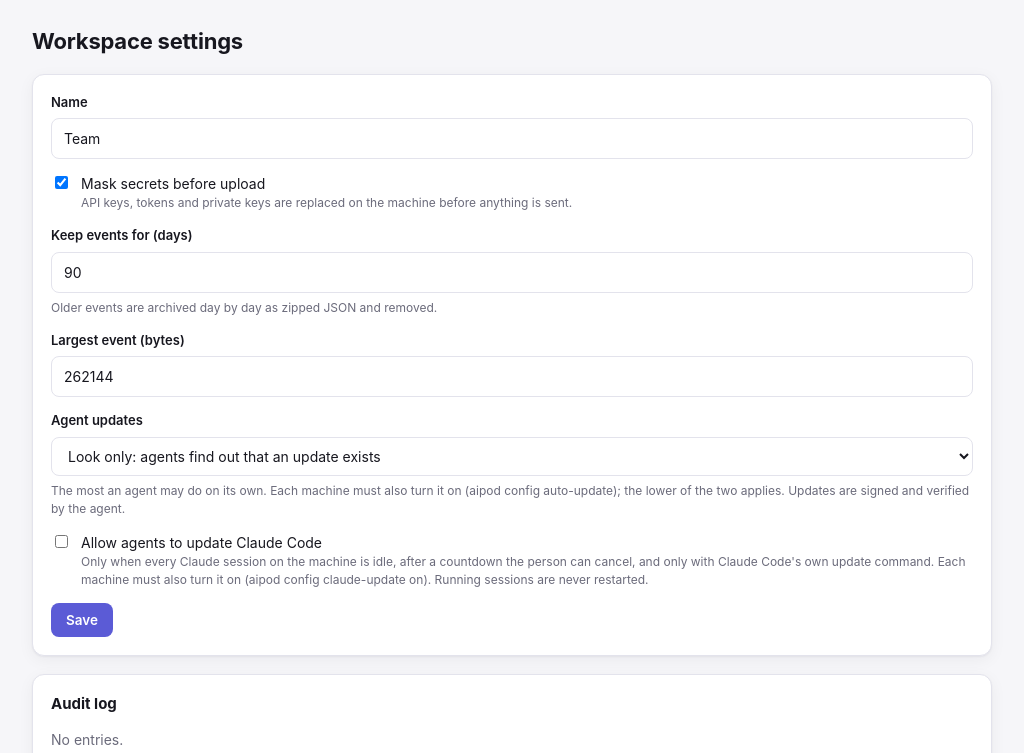
Test: workspace settings and account › lets an admin choose how far agents may update themselves, off by default
This screenshot has width=1024, height=753.
Select "Allowed: agents may install signed updates by themselves" in the dropdown labelled "Agent updates": (512, 456) top-left (51, 436), bottom-right (973, 476)
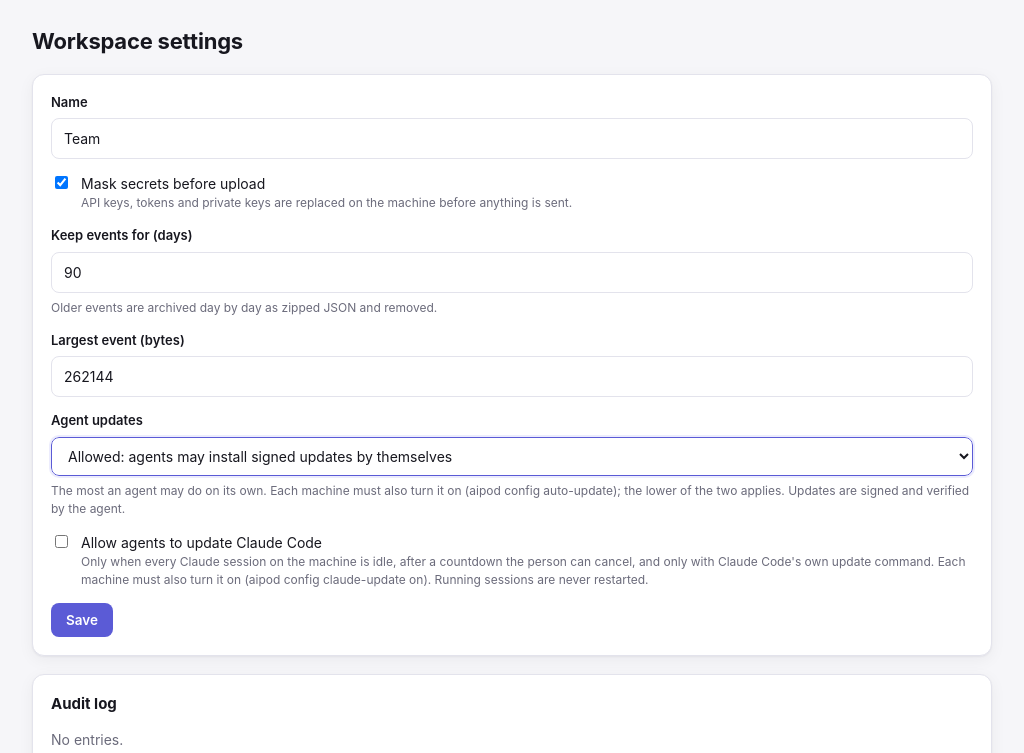
Click the button "Save": (82, 620) top-left (51, 602), bottom-right (113, 636)
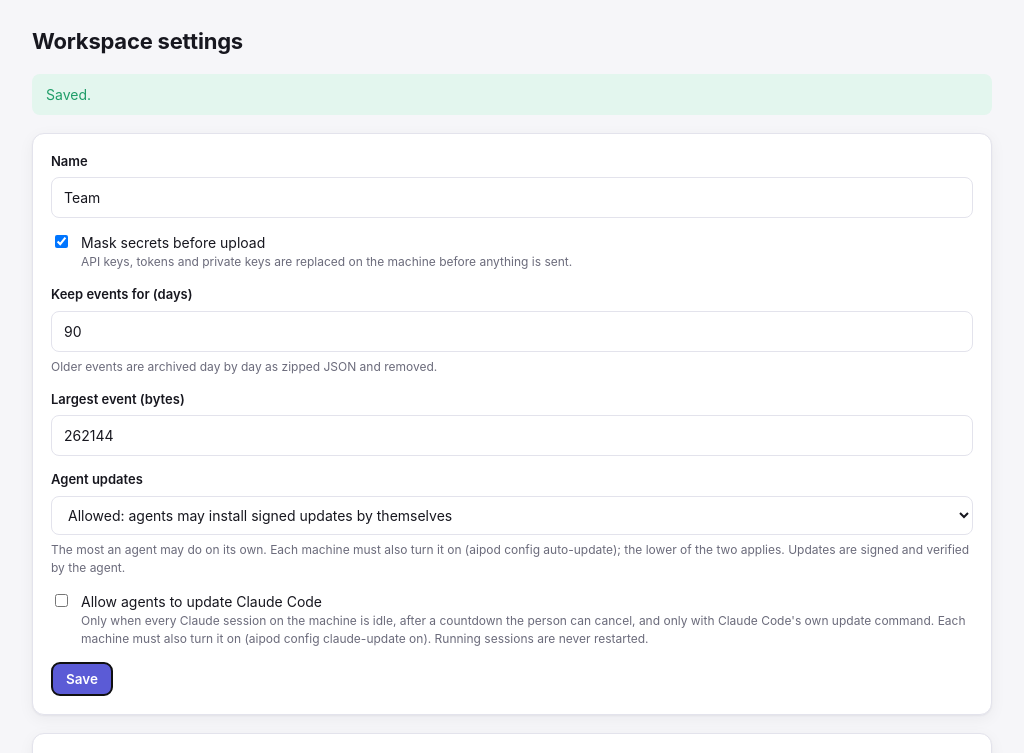
Expected: the text "Saved." is shown, top-left (32, 74), bottom-right (992, 114)
